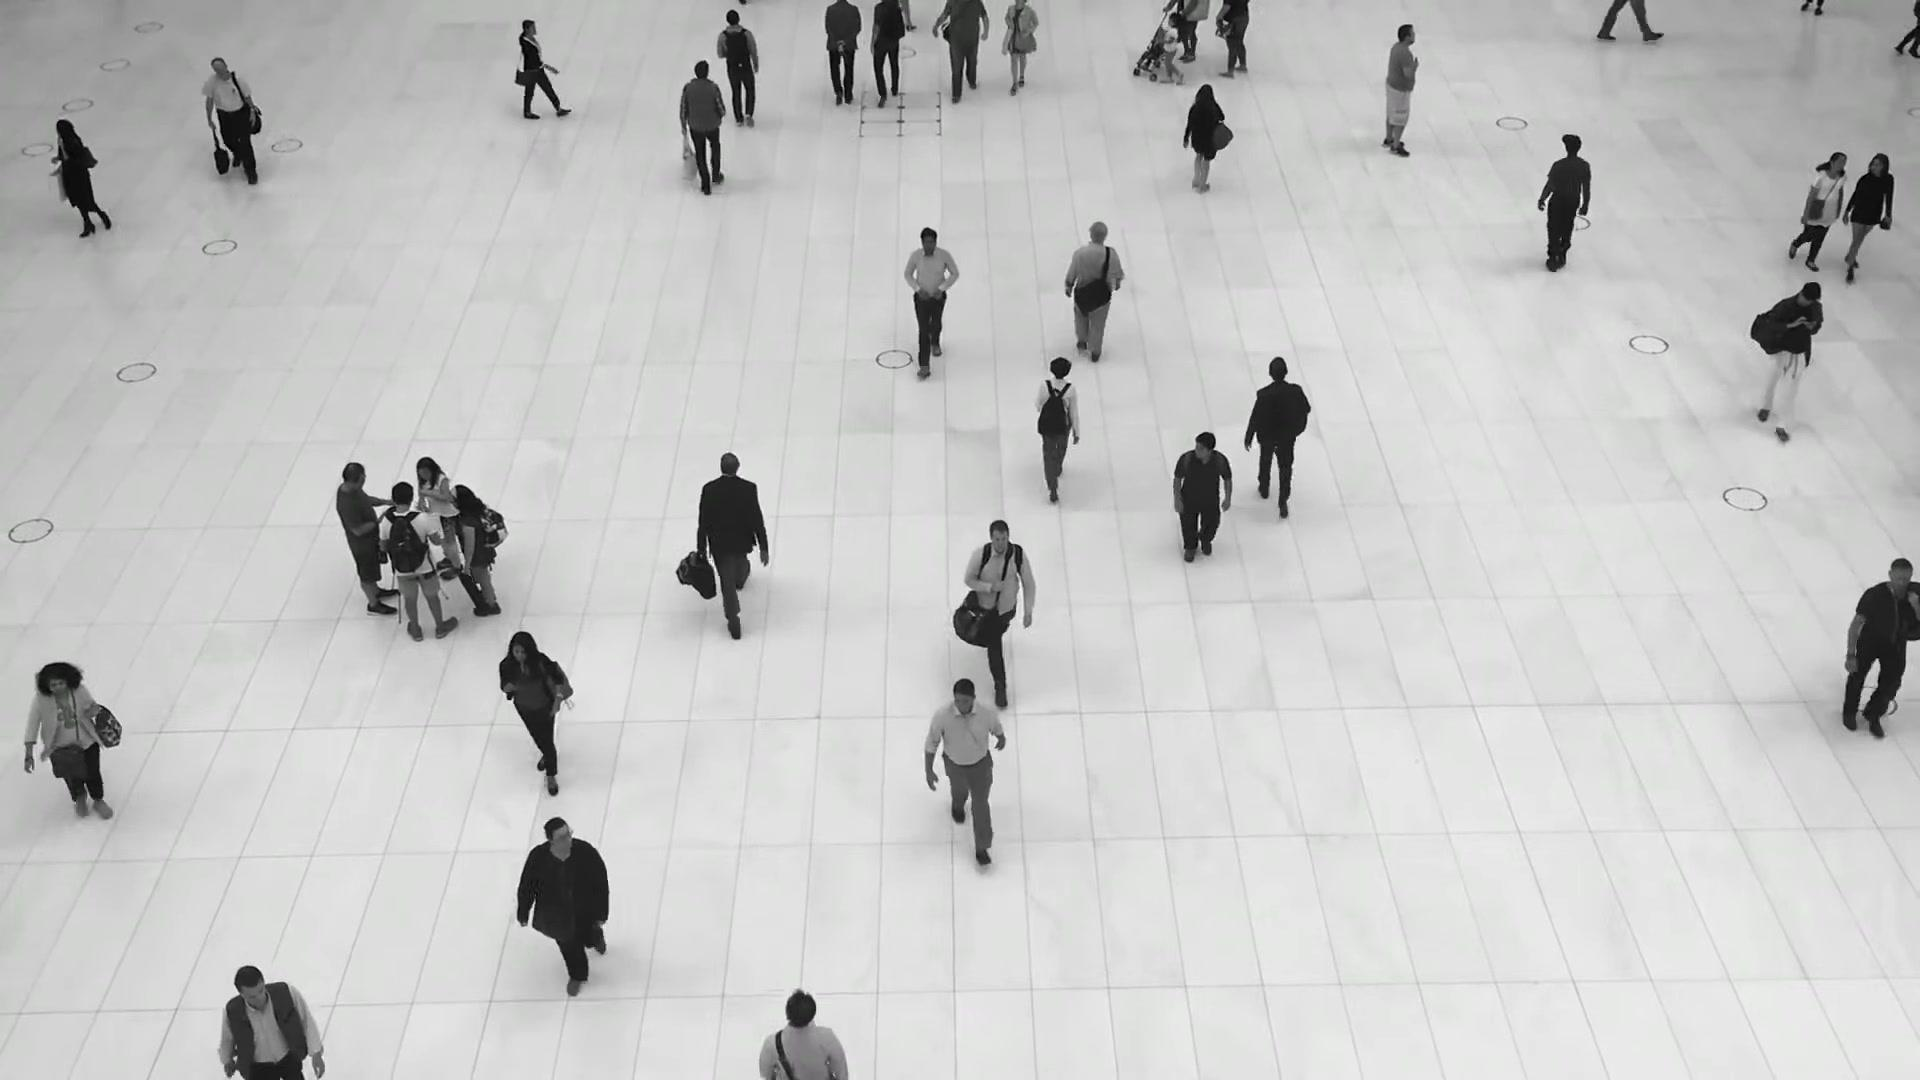person: (517, 816, 615, 1014), (1833, 563, 1919, 755), (21, 661, 113, 827), (924, 673, 1011, 847), (963, 514, 1035, 697), (698, 449, 769, 630), (378, 481, 459, 641), (498, 630, 575, 791), (1750, 281, 1826, 434), (222, 965, 321, 1080), (1247, 359, 1313, 525), (1168, 433, 1235, 578), (335, 465, 400, 615), (900, 224, 960, 369), (1064, 224, 1123, 372), (756, 987, 848, 1080), (1536, 134, 1592, 281), (201, 56, 258, 185), (1788, 151, 1846, 277), (449, 484, 502, 617), (1032, 355, 1081, 501), (53, 117, 111, 239), (1840, 151, 1894, 276), (678, 61, 727, 198), (932, 0, 991, 104), (1183, 85, 1233, 199), (717, 11, 762, 135), (1381, 23, 1421, 157), (511, 17, 564, 119), (418, 457, 459, 580), (823, 0, 861, 111), (867, 0, 904, 108), (1001, 0, 1039, 95), (1156, 12, 1182, 85)
